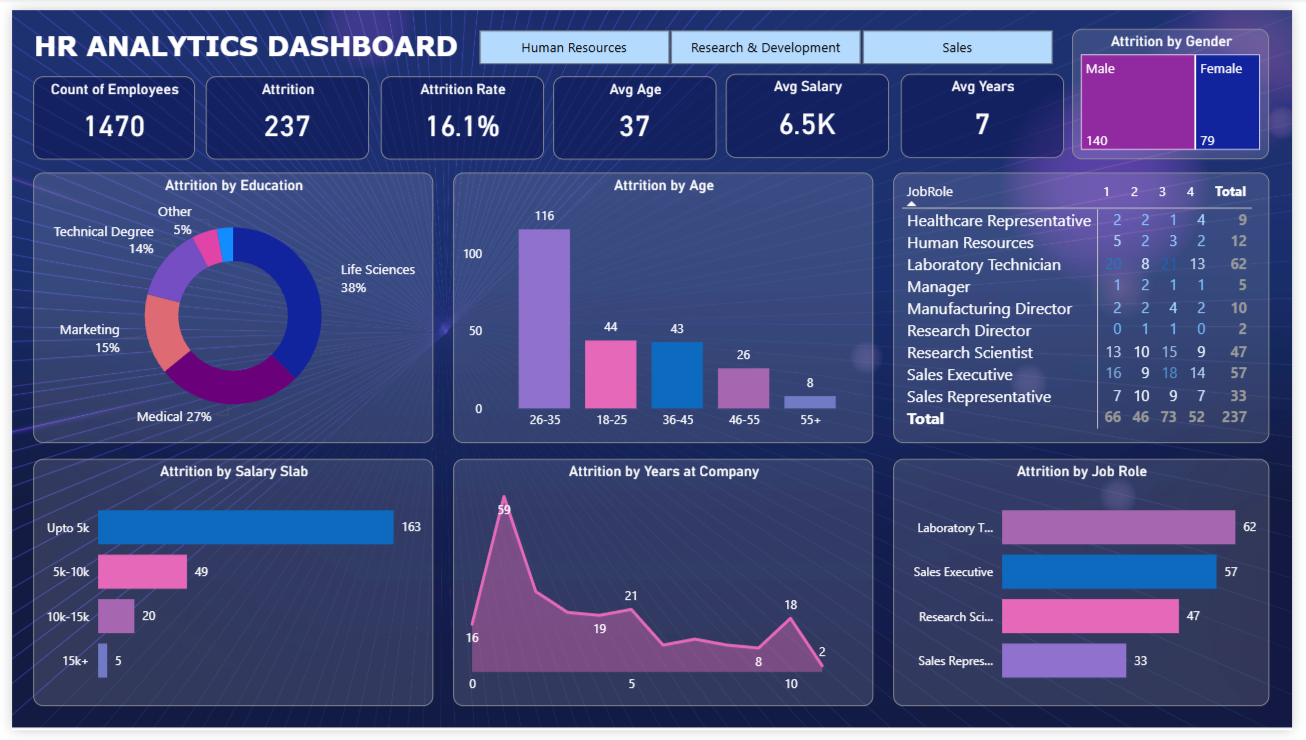

The page's visual inventory and layout, read from the dashboard file:
{"tool":"powerbi","page":{"name":"Page 1","canvas":[1280,720],"ordinal":0},"visuals":[{"type":"card","title":"Count of Employees","fields":{"Values":["Count(HR_Analytics.EmpID)"]},"box":[21.4,65.7,161.4,82.9],"z":0},{"type":"card","title":"Attrition","fields":{"Values":["Sum(HR_Analytics.AttritionCount)"]},"box":[194.3,65.7,162.9,82.9],"z":1000},{"type":"card","title":"Attrition Rate","fields":{"Values":["HR_Analytics.Attrition Rate"]},"box":[368.6,65.7,162.9,82.9],"z":2000},{"type":"card","title":"Avg Age","fields":{"Values":["Avg(HR_Analytics.Age)"]},"box":[541.4,65.7,162.9,82.9],"z":3000},{"type":"card","title":"Avg Salary","fields":{"Values":["Avg(HR_Analytics.MonthlyIncome)"]},"box":[714.3,64.3,162.9,84.3],"z":4000},{"type":"card","title":"Avg Years","fields":{"Values":["Avg(HR_Analytics.YearsAtCompany)"]},"box":[888.6,64.3,162.9,84.3],"z":5000},{"type":"donutChart","title":"Attrition by Education","fields":{"Category":["HR_Analytics.EducationField"],"Y":["Sum(HR_Analytics.AttritionCount)"]},"box":[21.4,162.9,400,270],"z":6000},{"type":"columnChart","title":"Attrition by Age","fields":{"Category":["HR_Analytics.AgeGroup"],"Y":["Sum(HR_Analytics.AttritionCount)"]},"box":[441.4,162.9,420,270],"z":7000},{"type":"pivotTable","fields":{"Rows":["HR_Analytics.JobRole"],"Columns":["HR_Analytics.JobSatisfaction"],"Values":["Sum(HR_Analytics.AttritionCount)"]},"box":[881.2,162.5,376.2,270],"z":8000},{"type":"barChart","title":"Attrition by Salary Slab","fields":{"Category":["HR_Analytics.SalarySlab"],"Y":["Sum(HR_Analytics.AttritionCount)"]},"box":[21.4,448.6,400,247.1],"z":9000},{"type":"barChart","title":"Attrition by Job Role","fields":{"Y":["Sum(HR_Analytics.AttritionCount)"],"Category":["HR_Analytics.JobRole"]},"box":[881.4,448.6,375.7,247.1],"z":10000},{"type":"treemap","title":"Attrition by Gender","fields":{"Group":["HR_Analytics.Gender"],"Values":["Sum(HR_Analytics.AttritionCount)"]},"box":[1060,18.6,197.1,130],"z":11000},{"type":"areaChart","title":"Attrition by Years at Company","fields":{"Category":["HR_Analytics.YearsAtCompany"],"Y":["Sum(HR_Analytics.AttritionCount)"]},"box":[441.4,448.6,420,247.1],"z":12000},{"type":"slicer","fields":{"Values":["HR_Analytics.Department"]},"box":[441.4,10,622.9,54.3],"z":13000},{"type":"textbox","box":[14.3,14.3,440,51.4],"z":14000}]}

Visuals, with their boxes in screenshot pixels (x1, y1, x2, y2), scaled from the page's 1280x720 canvas onto the 1306x740 screenshot:
"Count of Employees" card: x1=22, y1=68, x2=187, y2=153
"Attrition" card: x1=198, y1=68, x2=364, y2=153
"Attrition Rate" card: x1=376, y1=68, x2=542, y2=153
"Avg Age" card: x1=552, y1=68, x2=719, y2=153
"Avg Salary" card: x1=729, y1=66, x2=895, y2=153
"Avg Years" card: x1=907, y1=66, x2=1073, y2=153
"Attrition by Education" donutChart: x1=22, y1=167, x2=430, y2=445
"Attrition by Age" columnChart: x1=450, y1=167, x2=879, y2=445
pivotTable - HR_Analytics.JobRole x HR_Analytics.JobSatisfaction: x1=899, y1=167, x2=1283, y2=445
"Attrition by Salary Slab" barChart: x1=22, y1=461, x2=430, y2=715
"Attrition by Job Role" barChart: x1=899, y1=461, x2=1283, y2=715
"Attrition by Gender" treemap: x1=1082, y1=19, x2=1283, y2=153
"Attrition by Years at Company" areaChart: x1=450, y1=461, x2=879, y2=715
slicer - HR_Analytics.Department: x1=450, y1=10, x2=1086, y2=66
textbox: x1=15, y1=15, x2=464, y2=68
